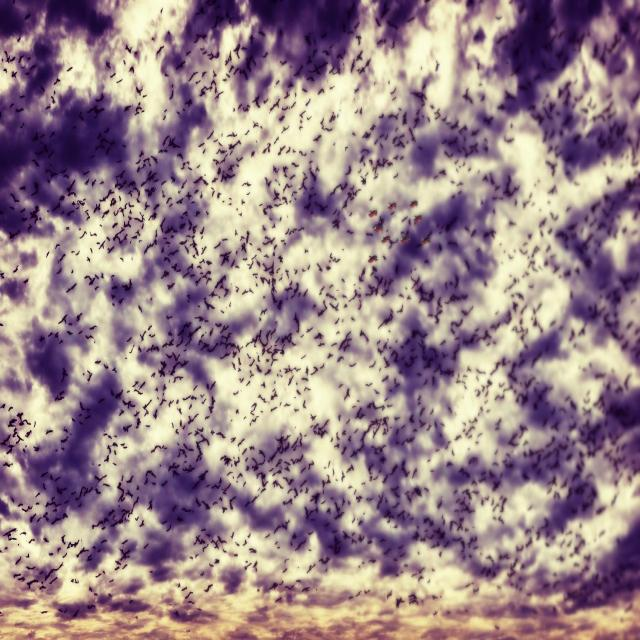airplane: (385, 196, 397, 213), (408, 197, 419, 210), (368, 206, 378, 220), (382, 232, 392, 246), (413, 214, 424, 226), (373, 222, 384, 234), (401, 234, 411, 245), (367, 254, 378, 264), (421, 236, 431, 246)
